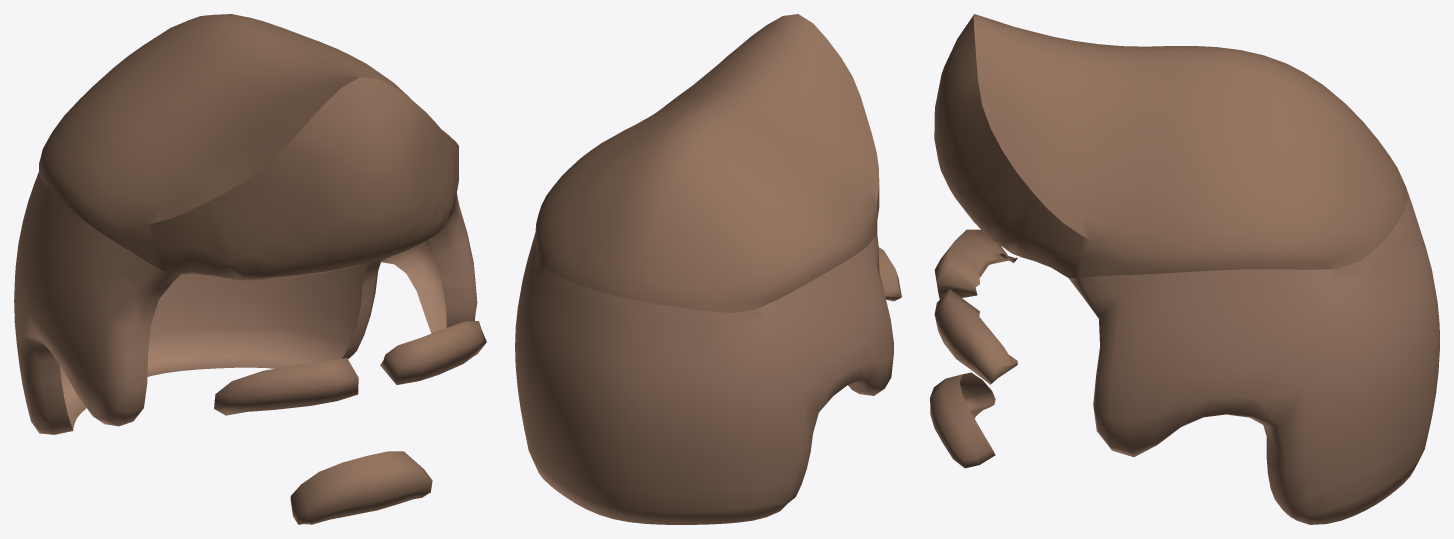
The picture shows the model from 3 angles, left to right: view 1: azimuth 30°, elevation 25°; view 2: azimuth 150°, elevation 25°; view 3: azimuth 270°, elevation 25°; orthographic projection. The views are drawn at different scales.
Parts seen in each view (by area): view 1: 20男发2; view 2: 20男发2; view 3: 20男发2.
Part boxes in pixels (box(x1,y1,x2,y2)): 20男发2: box(14, 14, 486, 524); 20男发2: box(515, 14, 901, 524); 20男发2: box(930, 14, 1439, 524).
Bounding box in the file's own units: 0.3839 × 0.4286 × 0.443.
